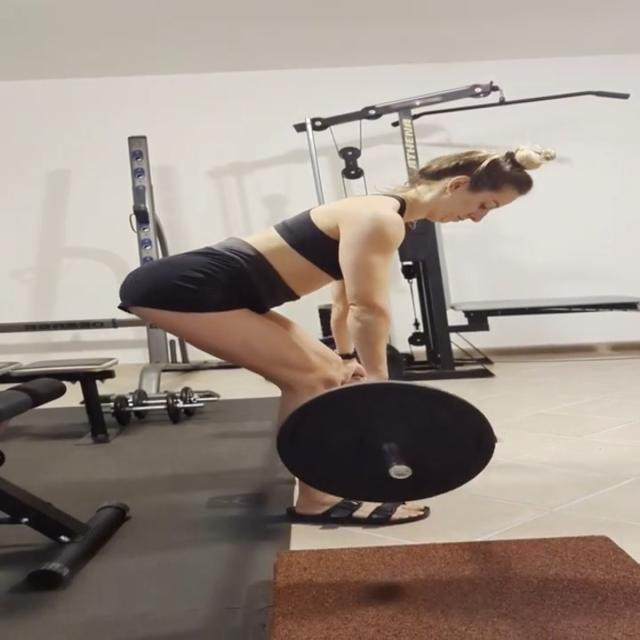barbell: (268, 376, 505, 508)
